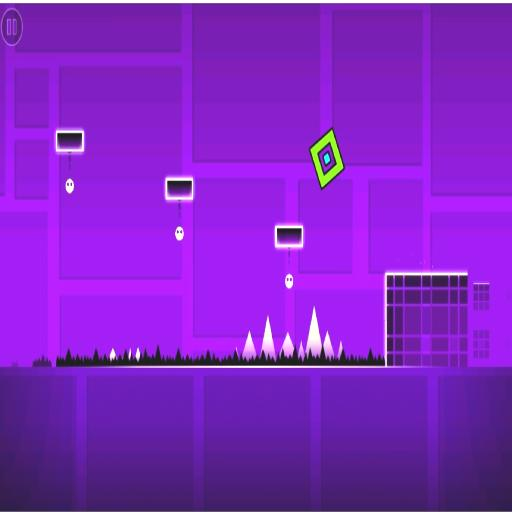block: (384, 272, 468, 368), (164, 176, 194, 201), (55, 131, 85, 153), (275, 225, 303, 248), (472, 330, 490, 362), (472, 284, 491, 314)
player: (310, 129, 344, 188)
spike: (305, 308, 320, 357), (262, 316, 274, 359), (242, 333, 255, 360), (322, 332, 333, 359), (280, 334, 292, 357), (298, 342, 303, 359), (109, 348, 115, 361), (337, 342, 341, 359), (134, 348, 139, 361), (128, 349, 130, 360)
